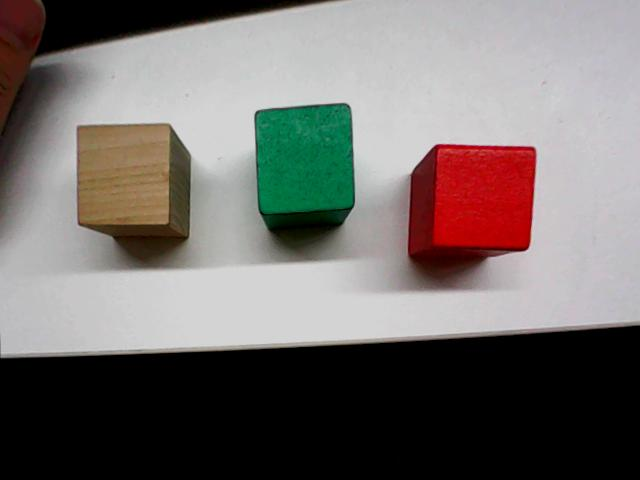green_box: (251, 99, 357, 232)
raw_box: (73, 119, 193, 241)
red_box: (405, 139, 539, 260)
